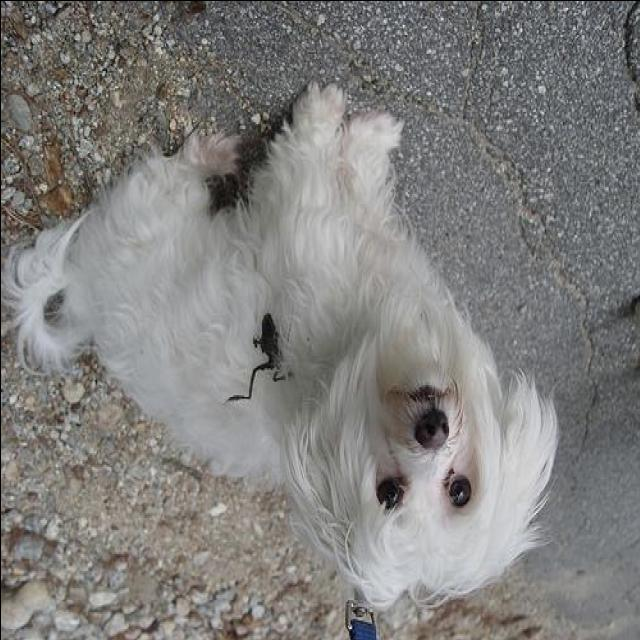maltese_dog: (2, 82, 560, 608)
